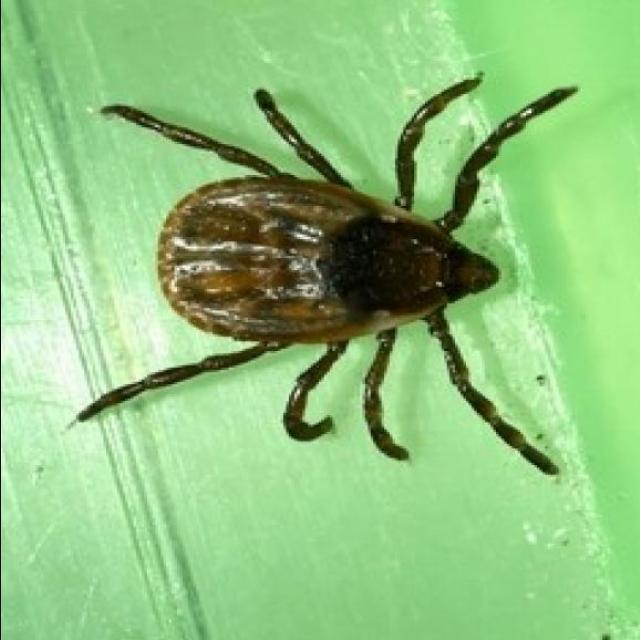Rhipicephalus Sanguineus-F: (70, 73, 579, 479)
